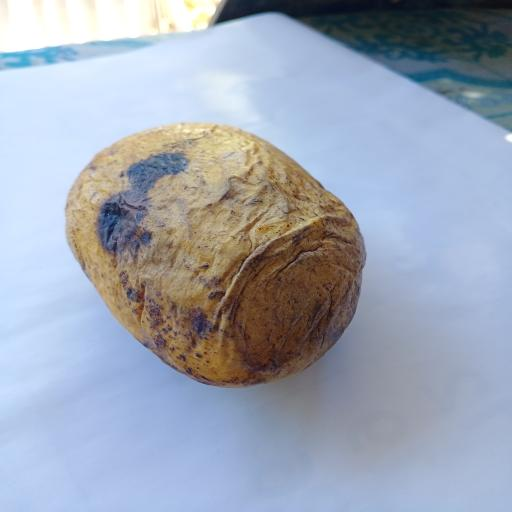mango-overripe: (57, 115, 374, 395)
